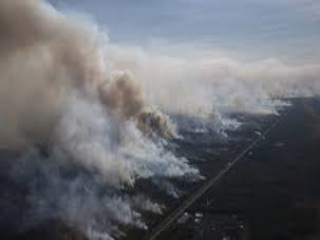smoke: (25, 52, 208, 234), (207, 49, 315, 131)
